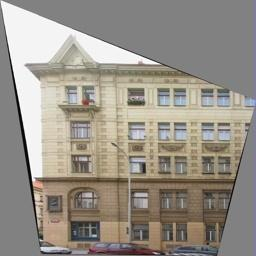building: (36, 30, 233, 243)
